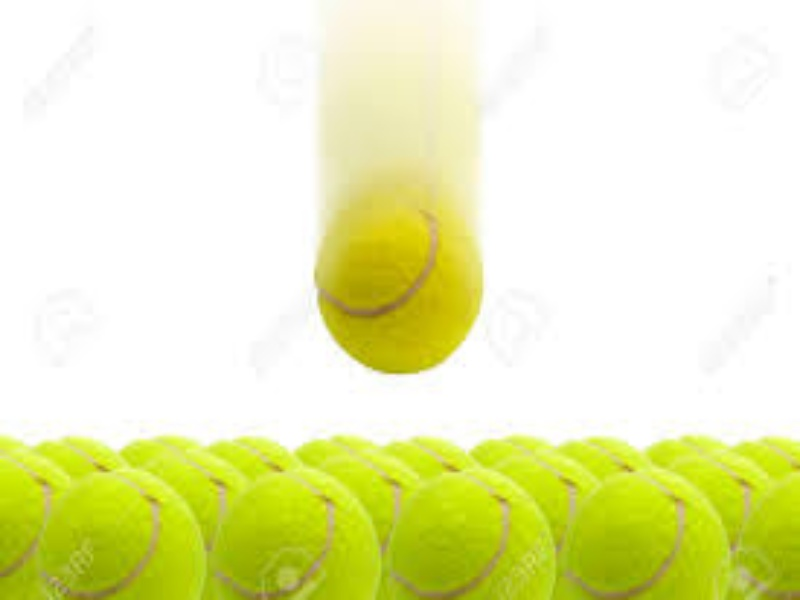tennis ball: (325, 184, 496, 380), (379, 461, 575, 600), (555, 467, 740, 600), (28, 451, 193, 600), (206, 467, 371, 600)
